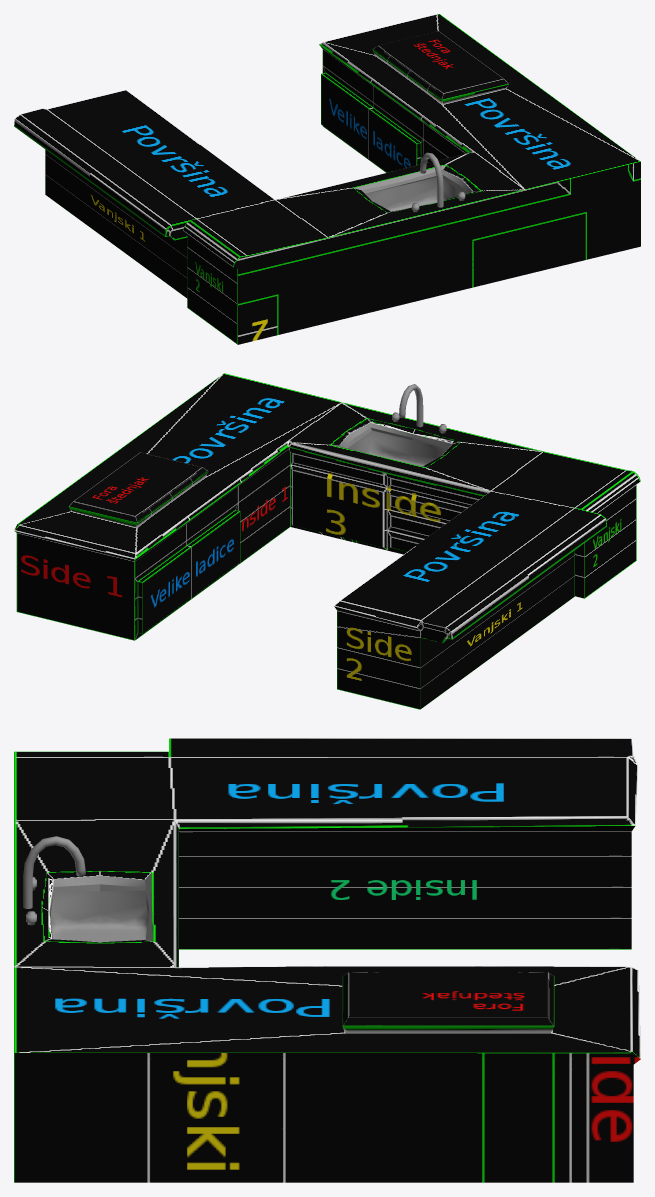
File: kuhinja.FBX
3 views of the same model, one above another, from view 1: azimuth 30°, elevation 25°; view 2: azimuth 150°, elevation 25°; view 3: azimuth 270°, elevation 25° (orthographic). The views are drawn at different scales.
Visible parts, largest first — view 1: Box001; view 2: Box001; view 3: Box001.
Part boxes in pixels (x1=…): Box001: x1=14, y1=14, x2=640, y2=344; Box001: x1=14, y1=373, x2=640, y2=709; Box001: x1=14, y1=738, x2=640, y2=1182.
Size of the model in its own units: 85.19 by 71.11 by 25.01.
3 materials, 2 textured.
